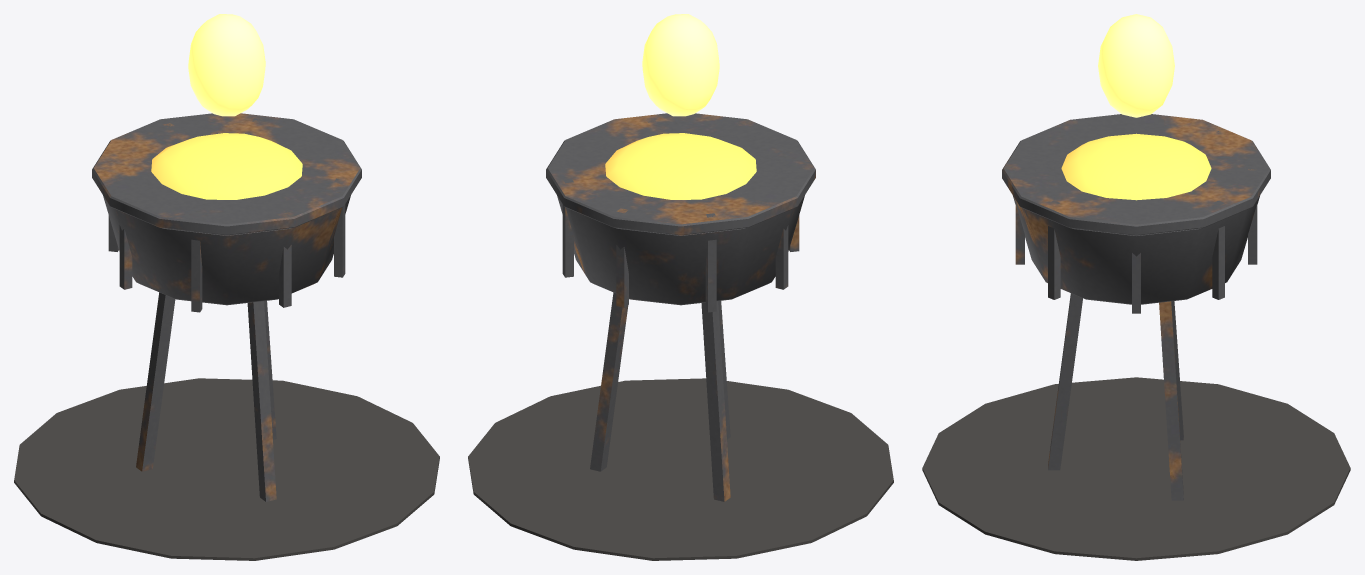
The model's file is brazier.glb.
The picture shows the model from 3 angles, left to right: view 1: azimuth 30°, elevation 25°; view 2: azimuth 150°, elevation 25°; view 3: azimuth 270°, elevation 25°; orthographic projection.
Parts seen in each view (by area): view 1: brazier; view 2: brazier; view 3: brazier.
Part boxes in pixels (x1,y1,x2,y2): brazier: (14, 14, 439, 560); brazier: (468, 14, 893, 560); brazier: (922, 14, 1350, 560).
Size of what is drawn, in the model's own units: 1.4 by 1.64 by 1.4.
Materials: 5 (1 with a texture image).
